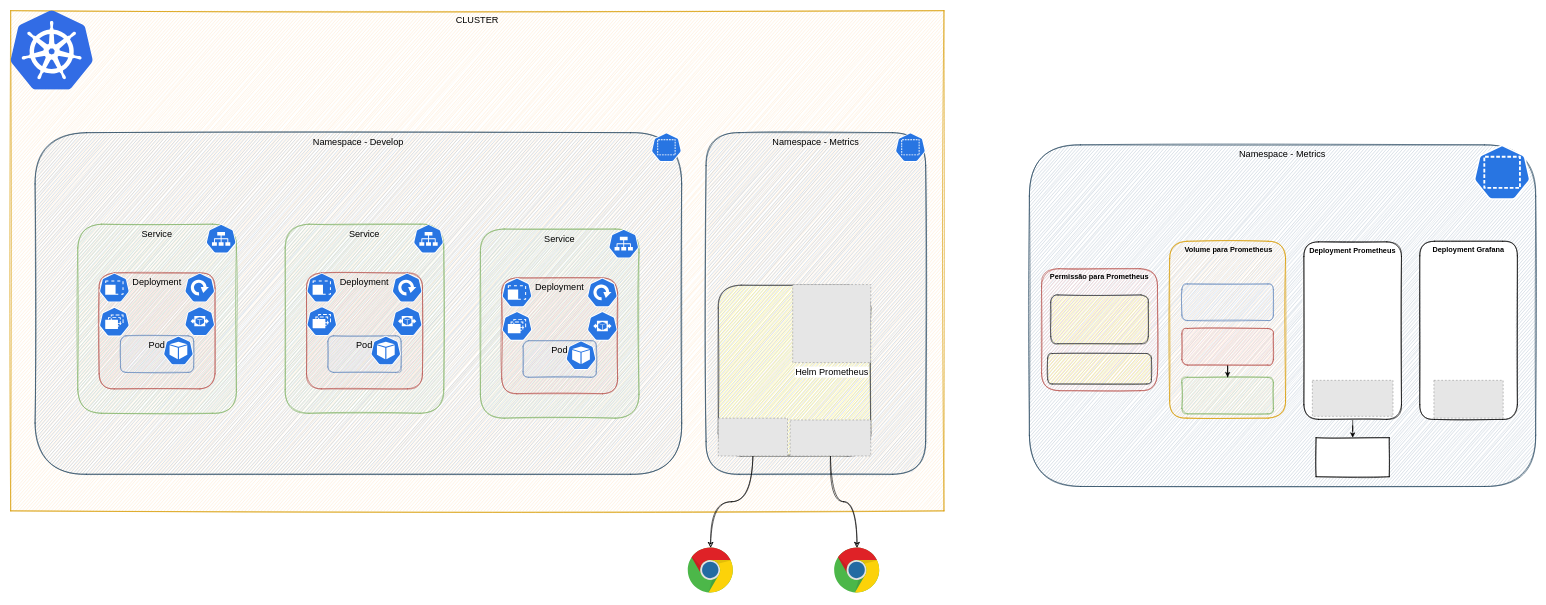
The diagram is 1546 pixels wide and 605 high, and some of its shapes have lost their labels. Grey dashed boxes stand in for pictures. The shapes that lost their labels are listed below. From the top down, each one's centre as x and y in pixels, then its label:
the point at 1099,319: ClusterRole (Dar permissão para o Prometheus pegar informações)
the point at 1227,302: Storage Class
the point at 1227,346: PersistenceVolumeClaims
the point at 1099,368: ClusterRoleBinding
the point at 1227,395: PersistenceVolume
the point at 1352,457: ConfigMap (prometheus.yml)
